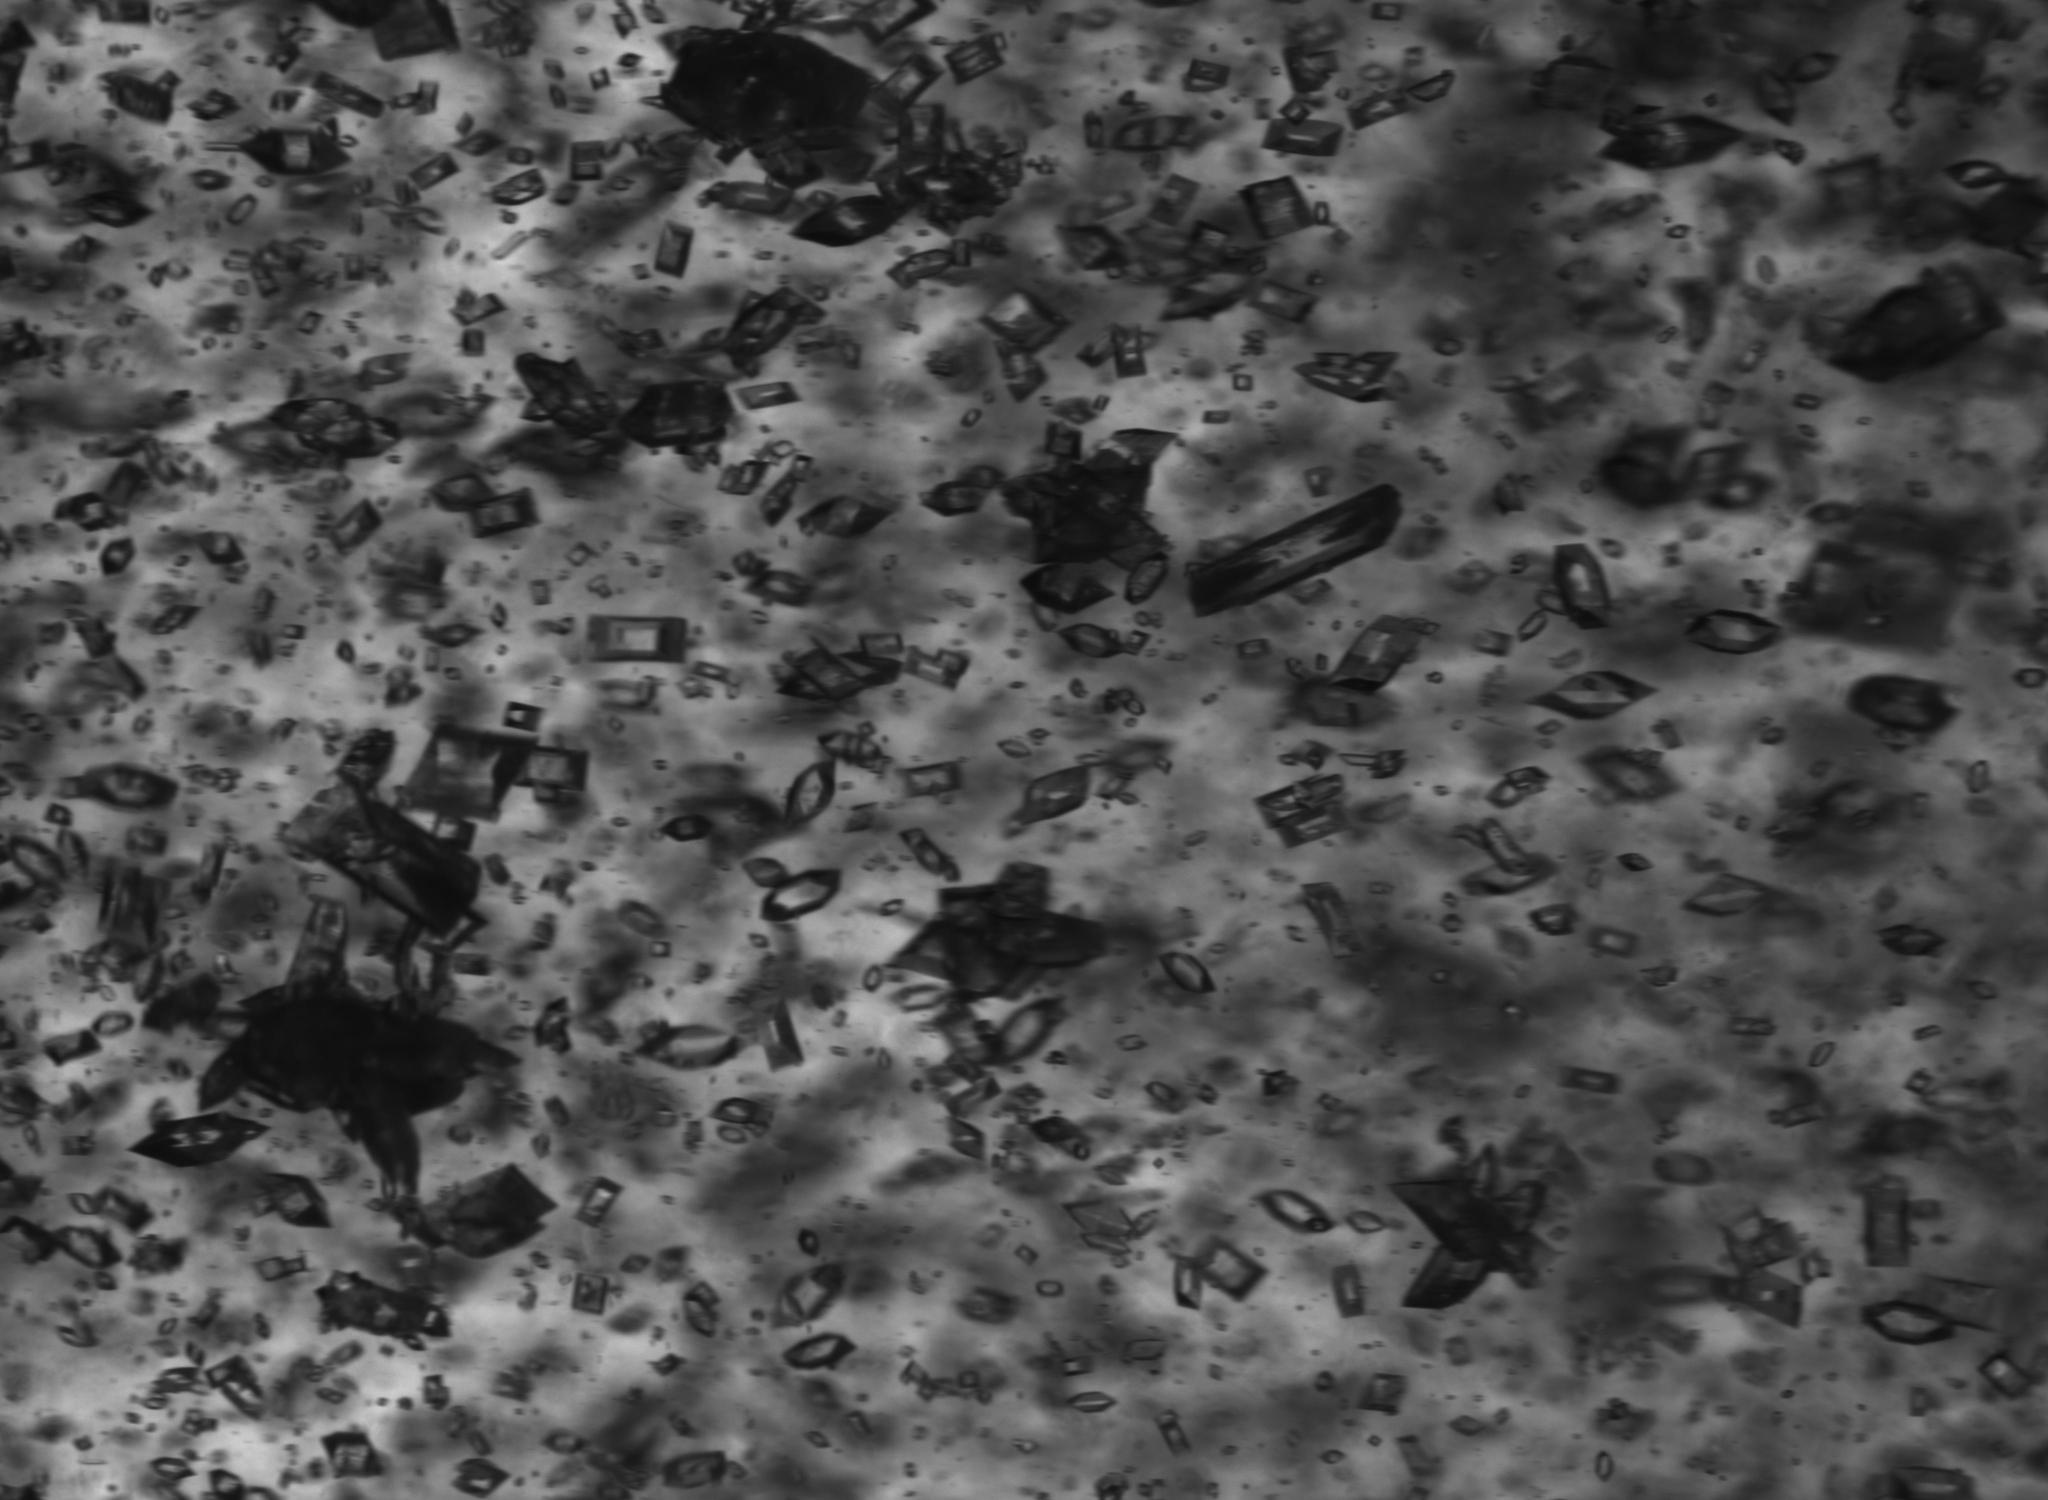crystal: (200, 975, 509, 1196), (887, 864, 1118, 1018), (278, 767, 480, 940), (661, 29, 875, 185), (1186, 485, 1401, 616), (1005, 428, 1180, 566), (1391, 1164, 1547, 1309), (1822, 267, 2005, 382), (873, 103, 1022, 237), (388, 1160, 560, 1258), (83, 856, 172, 1002), (402, 730, 541, 821), (394, 894, 491, 1012), (315, 1273, 448, 1349), (512, 348, 619, 442), (1603, 107, 1751, 170), (1323, 612, 1431, 698), (266, 398, 404, 460), (619, 379, 736, 449), (719, 285, 825, 361), (1083, 92, 1207, 156), (130, 1112, 269, 1168), (1846, 674, 1956, 741), (1495, 372, 1604, 433), (776, 652, 903, 703), (1539, 544, 1614, 628), (283, 894, 350, 988), (779, 635, 867, 706), (1530, 671, 1654, 719), (1154, 266, 1258, 323), (1010, 762, 1092, 832), (1296, 881, 1369, 959), (1913, 1274, 2007, 1335), (790, 196, 900, 247), (979, 293, 1069, 355), (369, 2, 460, 62), (64, 764, 176, 811), (242, 127, 348, 177), (1584, 746, 1678, 802), (1584, 744, 1678, 800), (1191, 1238, 1270, 1303), (633, 1023, 744, 1069), (875, 51, 946, 122), (1297, 352, 1398, 402), (584, 614, 687, 663), (1239, 178, 1315, 242), (1733, 1261, 1802, 1331), (887, 242, 991, 288), (778, 1261, 849, 1325), (1862, 1298, 1957, 1346), (848, 0, 938, 49), (1022, 565, 1115, 612), (1725, 1220, 1803, 1276), (1685, 611, 1781, 655), (205, 1352, 269, 1419), (995, 997, 1059, 1064), (68, 1185, 154, 1234), (261, 1172, 334, 1230), (798, 496, 895, 539), (1854, 1113, 1951, 1156), (467, 485, 542, 541), (762, 870, 840, 923), (1270, 799, 1350, 849), (1684, 872, 1770, 916), (703, 180, 797, 220), (507, 746, 590, 791), (316, 499, 383, 554), (922, 469, 997, 517), (320, 1427, 383, 1483), (1253, 773, 1345, 811), (1263, 115, 1344, 157), (755, 999, 805, 1069), (1245, 278, 1320, 324), (941, 33, 1007, 86), (1258, 1190, 1337, 1233), (784, 759, 835, 826), (1059, 224, 1127, 274), (898, 646, 968, 692), (108, 73, 173, 122), (313, 72, 380, 119), (1345, 86, 1414, 132), (51, 1226, 124, 1269), (0, 1214, 60, 1265), (1865, 1188, 1908, 1260), (1976, 1352, 2038, 1401), (1840, 145, 1884, 213), (73, 189, 151, 227), (1150, 170, 1199, 229), (1061, 1199, 1135, 1238), (1560, 1059, 1625, 1101), (944, 1075, 1005, 1120), (1181, 220, 1234, 270), (11, 834, 64, 884), (1075, 320, 1129, 369), (1474, 814, 1530, 862), (1485, 767, 1549, 808), (1778, 43, 1860, 75), (782, 1333, 854, 1370), (452, 1457, 512, 1500), (744, 569, 814, 606), (432, 474, 496, 514), (1156, 951, 1213, 994), (898, 829, 948, 878), (41, 1029, 105, 1067), (1056, 624, 1124, 657), (760, 472, 800, 530), (576, 1177, 622, 1226), (1123, 558, 1169, 608), (900, 760, 962, 797), (67, 490, 119, 533), (654, 221, 693, 277), (684, 1279, 720, 1339), (1358, 1371, 1409, 1414), (731, 382, 803, 412), (490, 169, 545, 207), (816, 730, 882, 762), (676, 1452, 725, 1495), (191, 533, 251, 568), (1760, 68, 1797, 126), (356, 352, 413, 388), (533, 997, 572, 1050), (448, 293, 507, 328), (1948, 154, 2008, 188), (431, 811, 477, 854), (70, 617, 118, 659), (1875, 926, 1943, 954), (1663, 1145, 1716, 1182), (0, 138, 52, 175), (1115, 323, 1148, 380), (1331, 1265, 1366, 1319), (1008, 358, 1048, 404), (1173, 1255, 1205, 1312), (1178, 59, 1232, 92), (409, 153, 458, 189), (253, 240, 305, 274), (1154, 1408, 1191, 1455), (658, 813, 716, 843), (1113, 738, 1167, 770), (184, 87, 237, 119), (194, 840, 227, 888), (1402, 73, 1455, 103), (572, 1271, 609, 1314), (948, 1117, 984, 1160), (741, 857, 790, 888), (1531, 902, 1576, 935), (253, 1257, 307, 1284), (1022, 1117, 1080, 1142), (1396, 1436, 1437, 1471), (943, 1050, 984, 1085), (727, 461, 768, 496), (1078, 1233, 1132, 1258), (146, 1455, 197, 1483), (1590, 927, 1635, 958), (102, 538, 137, 576), (709, 1098, 762, 1123), (1288, 577, 1334, 606), (425, 624, 483, 646), (1784, 1099, 1835, 1125), (154, 603, 202, 630), (504, 700, 542, 732), (1367, 749, 1407, 779), (793, 324, 835, 353), (1048, 423, 1081, 458), (490, 231, 528, 261), (859, 633, 906, 657), (458, 130, 506, 154), (1703, 393, 1735, 428), (841, 802, 878, 832), (1065, 1392, 1116, 1413), (189, 169, 232, 192), (226, 192, 256, 226), (1517, 609, 1547, 643), (1278, 97, 1312, 127), (541, 1432, 585, 1454), (1297, 49, 1339, 73), (1302, 466, 1331, 499), (1347, 1209, 1387, 1233), (1123, 1339, 1167, 1360), (1119, 628, 1151, 657), (650, 1354, 685, 1379), (92, 1012, 132, 1034), (1477, 628, 1507, 655), (1145, 1078, 1177, 1104), (1062, 1354, 1096, 1378), (1235, 638, 1270, 660), (1800, 1247, 1819, 1287), (1449, 1414, 1482, 1436), (1617, 854, 1655, 873), (296, 309, 324, 334), (572, 140, 604, 162), (1732, 1018, 1776, 1034), (423, 1373, 445, 1405), (619, 1255, 652, 1276), (43, 802, 70, 827), (789, 455, 814, 482), (1616, 196, 1644, 220), (529, 577, 553, 606), (690, 662, 725, 681), (997, 740, 1032, 759), (587, 67, 612, 92), (1113, 1034, 1146, 1053), (342, 253, 364, 282), (417, 83, 436, 115), (184, 1339, 207, 1366), (2015, 670, 2045, 689), (1970, 762, 1989, 792), (1595, 1451, 1614, 1481), (517, 1282, 536, 1312), (1809, 1042, 1833, 1066), (903, 1360, 927, 1384), (1371, 3, 1402, 21), (572, 164, 606, 180), (849, 1414, 871, 1438), (917, 1378, 940, 1401), (1914, 1023, 1945, 1040), (566, 544, 592, 565), (1339, 754, 1380, 767), (464, 329, 485, 355), (488, 601, 507, 628), (92, 1271, 119, 1290), (1968, 981, 2000, 997), (202, 140, 242, 153), (507, 146, 536, 164), (1450, 1339, 1472, 1362), (1305, 746, 1325, 771), (615, 13, 638, 33), (800, 1231, 820, 1253), (553, 185, 579, 202), (1035, 1280, 1062, 1296), (719, 1126, 746, 1142), (1313, 1371, 1334, 1392), (1123, 697, 1145, 716), (336, 639, 355, 662), (959, 1370, 981, 1389), (841, 344, 859, 367), (423, 647, 440, 671), (770, 441, 793, 458), (1536, 721, 1565, 735), (1441, 915, 1466, 931), (1320, 1449, 1345, 1465), (1313, 200, 1329, 226), (962, 407, 983, 426), (1232, 374, 1255, 391), (1762, 727, 1786, 743), (1797, 393, 1821, 409), (390, 94, 415, 108), (867, 970, 884, 991), (1018, 1247, 1038, 1265), (881, 899, 903, 915), (1204, 410, 1231, 423), (617, 52, 641, 67), (1092, 393, 1111, 410), (806, 1432, 828, 1446), (1439, 339, 1461, 353), (649, 942, 671, 956), (281, 625, 305, 638), (878, 1048, 890, 1069), (1315, 651, 1328, 671), (1666, 226, 1689, 237), (1431, 970, 1452, 981), (751, 611, 768, 624), (634, 264, 649, 278), (1367, 1435, 1383, 1448), (832, 1047, 846, 1056)
